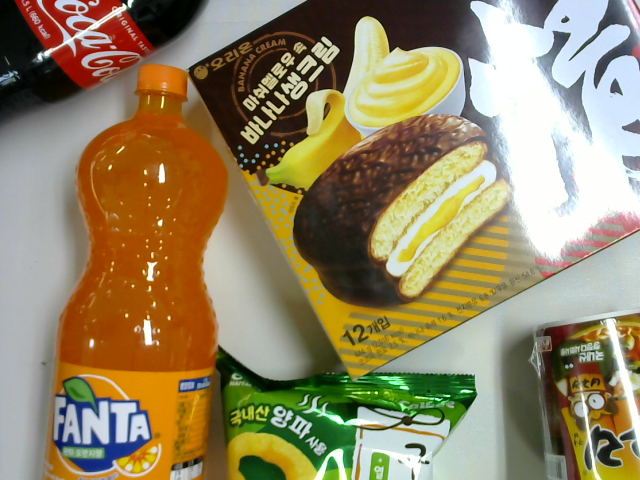Choco_Pie_Banana: (185, 1, 640, 385)
Coca_Cola_1.5L: (2, 1, 206, 130)
Grilled_Onions: (213, 344, 479, 480)
Hwanta_Orange_1.5L: (39, 62, 232, 479)
Raccoon: (530, 305, 640, 479)
